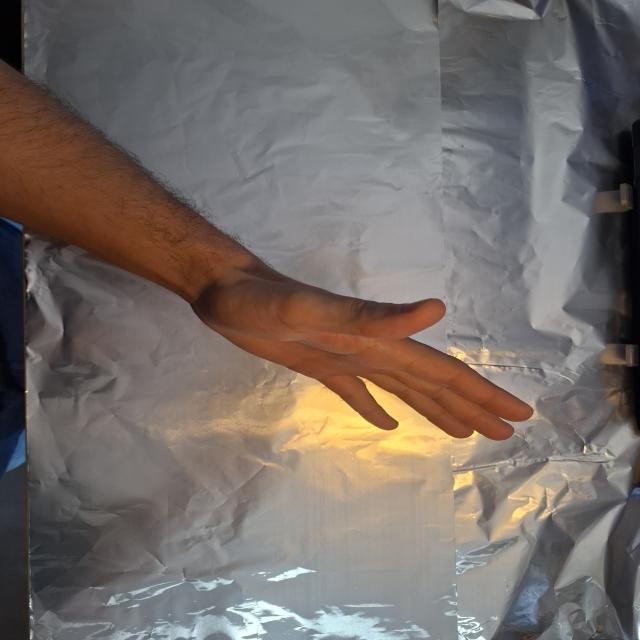glove_off: (189, 261, 536, 442)
